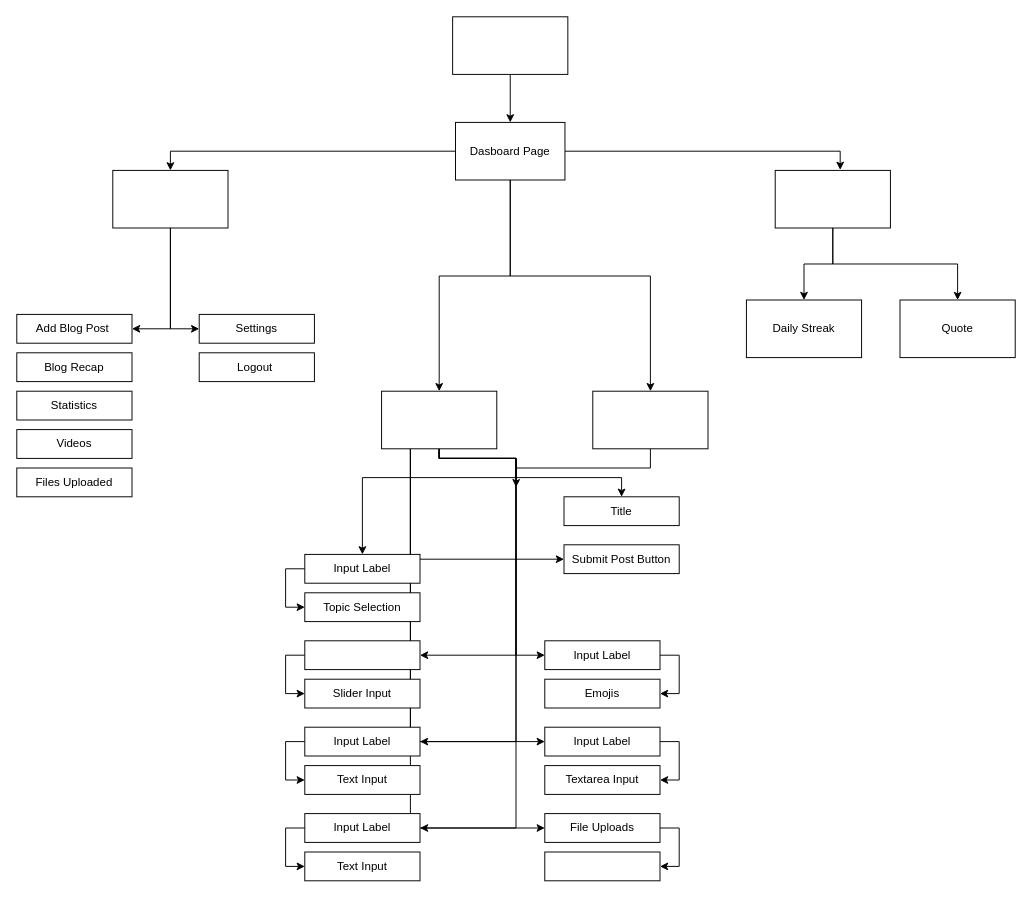
This 1032x898 diagram has some shape labels left out. Here are the shapes that lost their labels. From the top down, the box of each, then its label:
(452, 16, 568, 74): APP
(112, 169, 228, 228): Side Navbar
(774, 169, 890, 228): Header
(381, 390, 497, 449): Blog Input Page
(592, 390, 708, 449): Blog Re-cap Page
(304, 640, 420, 670): Label
(544, 851, 660, 881): Video Uploads
